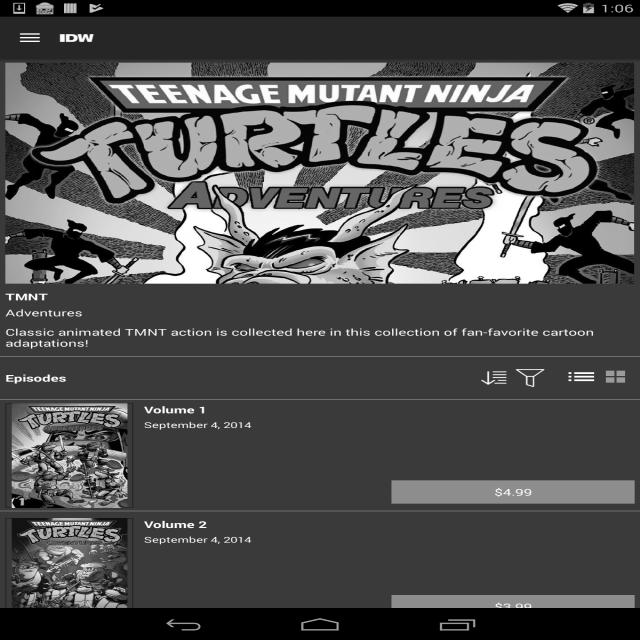Button: (392, 480, 634, 504), (392, 595, 634, 618)
ImageButton: (0, 30, 60, 46)
ImageView: (0, 59, 640, 608), (5, 62, 635, 284), (5, 403, 134, 508), (5, 518, 134, 623), (511, 366, 549, 390), (477, 366, 511, 390), (60, 27, 94, 49)
RadioButton: (564, 366, 598, 387), (598, 366, 632, 387)
TextView: (5, 326, 635, 349), (5, 290, 635, 303), (5, 306, 635, 319), (144, 403, 635, 416), (144, 518, 635, 531), (144, 534, 635, 545), (144, 420, 635, 430), (5, 372, 66, 384)
